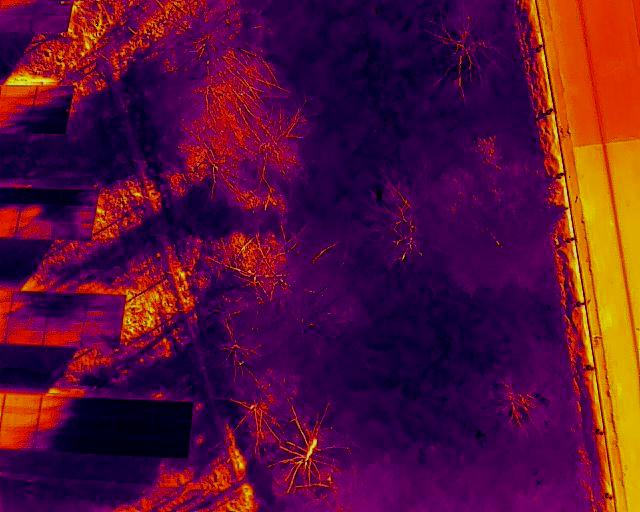No-Anomaly: (2, 393, 40, 413), (0, 413, 37, 429)
Shadowing: (37, 433, 76, 454), (7, 311, 47, 330), (49, 292, 87, 312), (119, 399, 157, 419), (80, 397, 118, 417), (37, 415, 77, 434), (84, 311, 122, 331), (46, 311, 84, 331), (112, 437, 152, 456), (76, 417, 115, 436), (12, 291, 49, 311), (155, 401, 192, 421), (40, 397, 81, 415), (116, 420, 153, 439), (0, 430, 37, 449), (15, 223, 54, 241), (81, 330, 120, 348), (6, 328, 44, 346), (75, 435, 111, 454), (18, 206, 58, 223), (57, 205, 96, 222), (154, 423, 190, 441), (44, 329, 82, 346), (56, 223, 91, 241), (32, 0, 71, 16), (87, 295, 123, 312), (153, 441, 187, 459), (30, 15, 68, 31), (32, 102, 69, 118), (23, 189, 60, 205), (35, 86, 73, 101), (29, 119, 65, 134), (60, 189, 96, 203)
